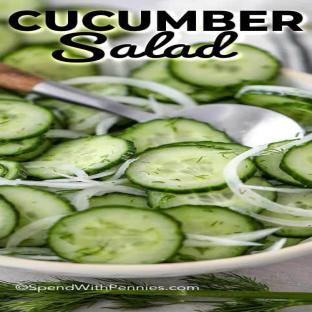Cucumber: (49, 206, 183, 264), (127, 146, 236, 193), (27, 135, 135, 179), (170, 44, 280, 87), (131, 59, 233, 102), (120, 118, 230, 151), (3, 46, 97, 80), (0, 186, 74, 228), (165, 205, 260, 236), (236, 86, 311, 125), (148, 188, 262, 212), (37, 99, 113, 134), (54, 7, 130, 37), (0, 100, 53, 141), (255, 141, 302, 186), (281, 141, 311, 187), (5, 139, 51, 162), (266, 103, 311, 126), (160, 141, 249, 151), (90, 193, 149, 208), (0, 137, 42, 157), (0, 196, 17, 238), (74, 83, 127, 96), (0, 24, 21, 56), (249, 235, 282, 253), (0, 160, 26, 179), (263, 211, 311, 220), (0, 88, 23, 100), (0, 163, 8, 177)
